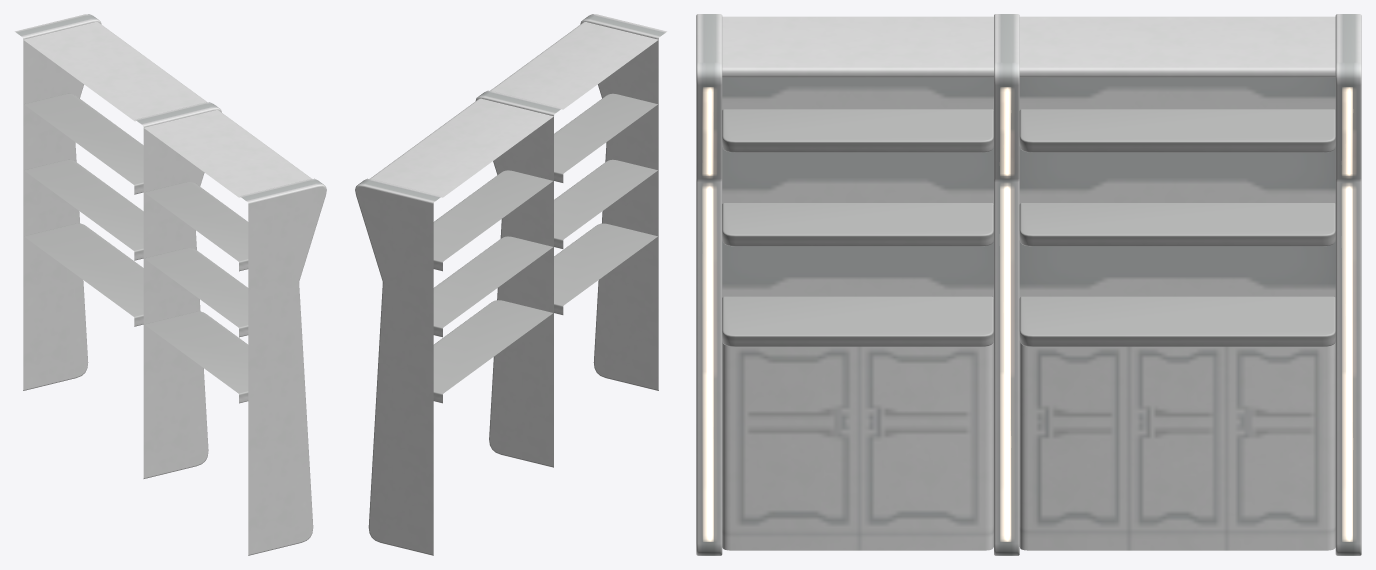
File: bar_shelves_1_a.glb
3 views of the same model, side by side, from view 1: azimuth 30°, elevation 25°; view 2: azimuth 150°, elevation 25°; view 3: azimuth 270°, elevation 25° (orthographic). The views are drawn at different scales.
Visible parts, largest first — view 1: bar_shelves_1; view 2: bar_shelves_1; view 3: bar_shelves_1.
Boxes of the visible parts, left/top/right/bottom form: bar_shelves_1: left=15, top=14, right=326, bottom=555; bar_shelves_1: left=355, top=14, right=666, bottom=555; bar_shelves_1: left=696, top=14, right=1361, bottom=555.
Size of the model in its own units: 0.5858 by 2.5 by 3.
1 material, 1 textured.
